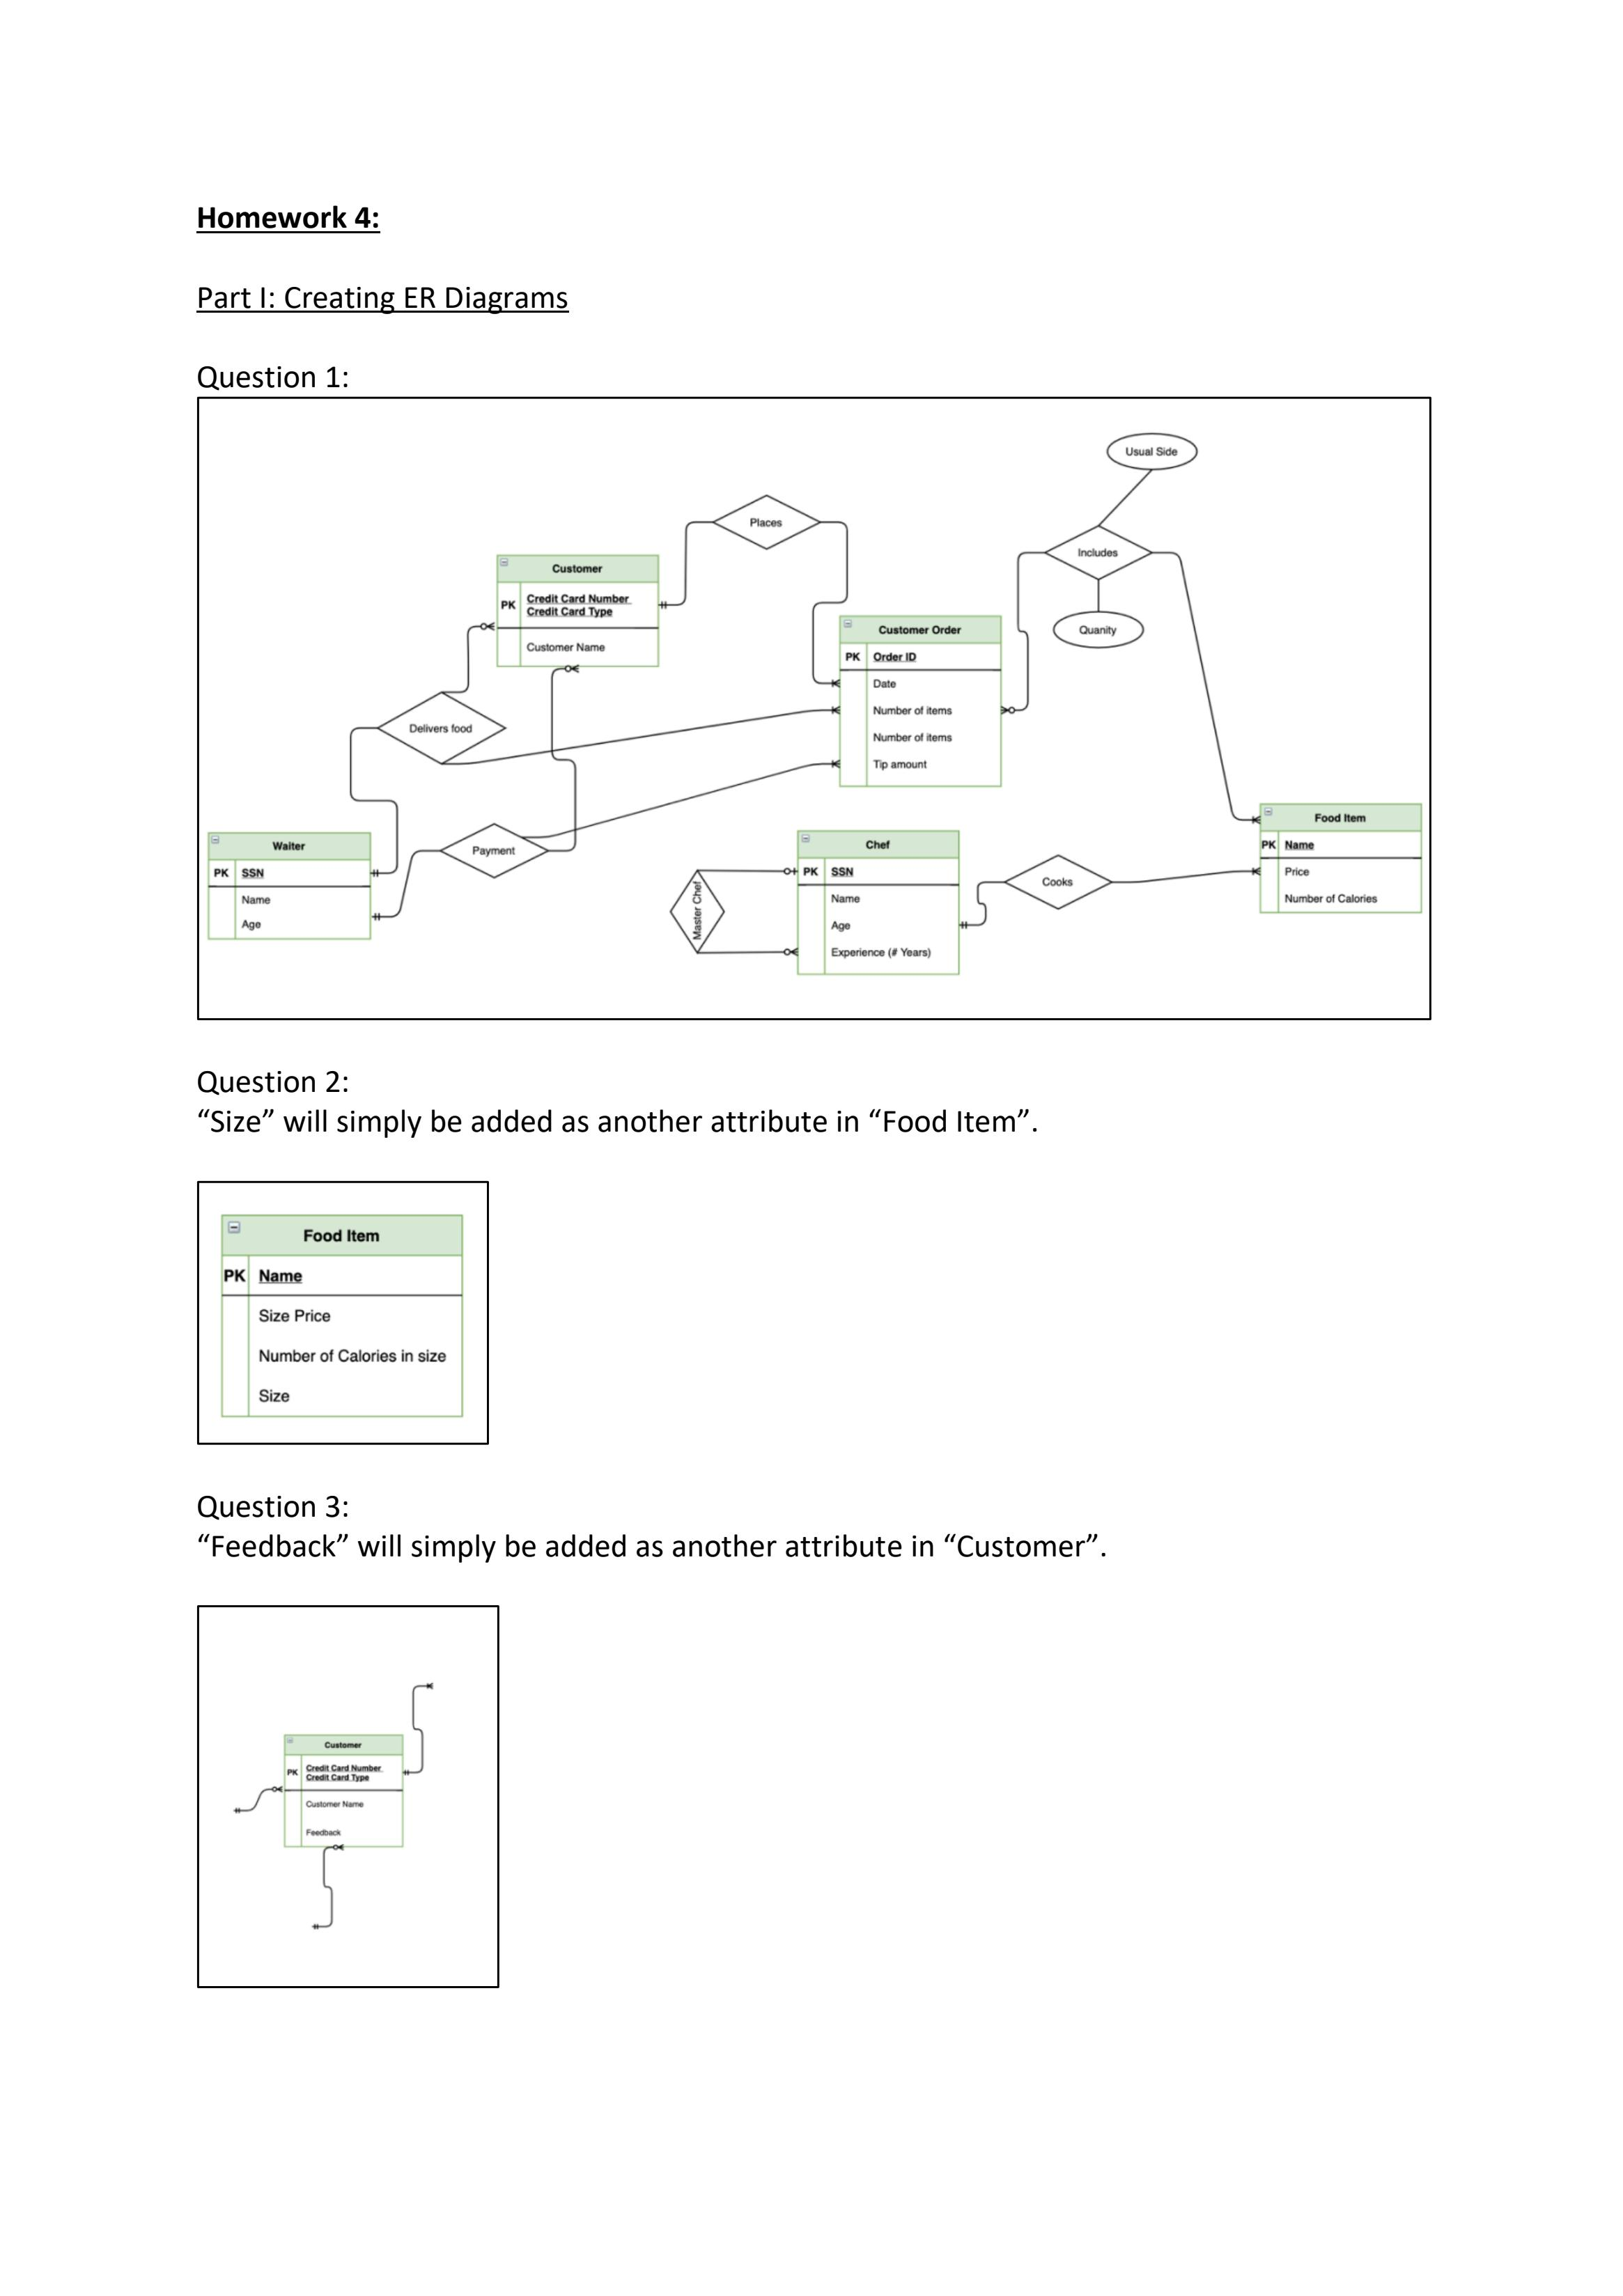Attribute: (1107, 432, 1198, 470), (1054, 611, 1145, 649)
Entity: (220, 1213, 465, 1420), (838, 614, 1003, 788), (796, 829, 961, 974), (495, 553, 660, 667), (1258, 802, 1425, 915), (206, 830, 372, 941)
Relationship: (378, 692, 506, 762), (1005, 855, 1112, 909), (1043, 525, 1152, 578), (441, 823, 548, 876), (669, 869, 724, 955)
